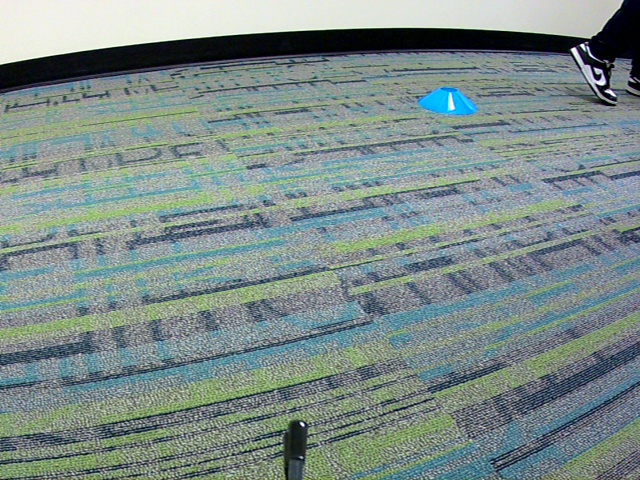cone: (419, 84, 477, 114)
